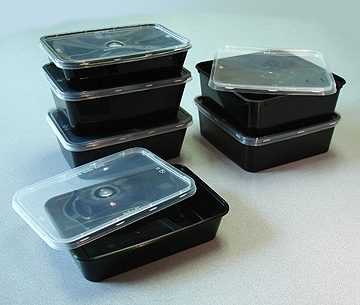PlasticBox: (10, 145, 232, 285)
